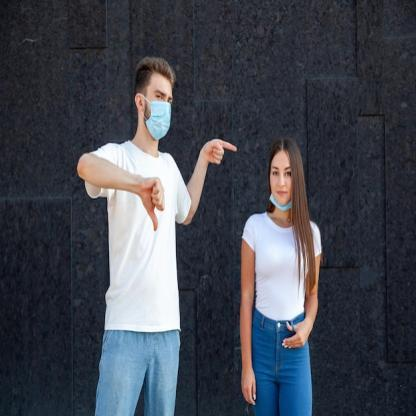thumb_down: (142, 174, 168, 232)
